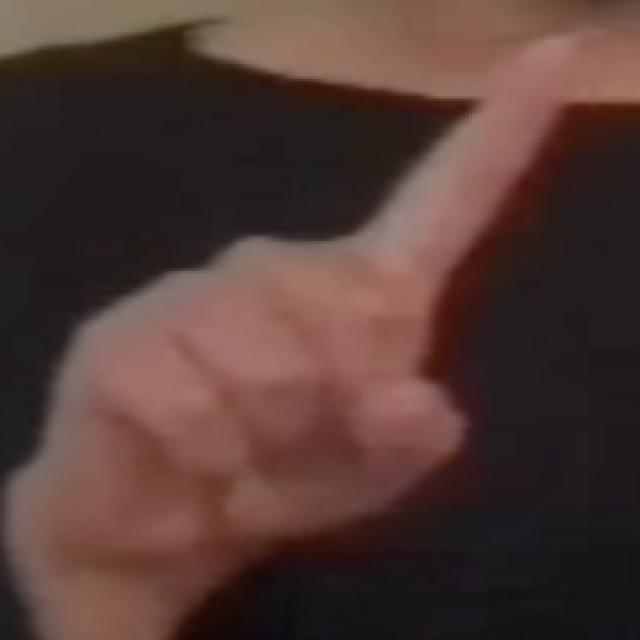Z: (20, 26, 600, 583)
